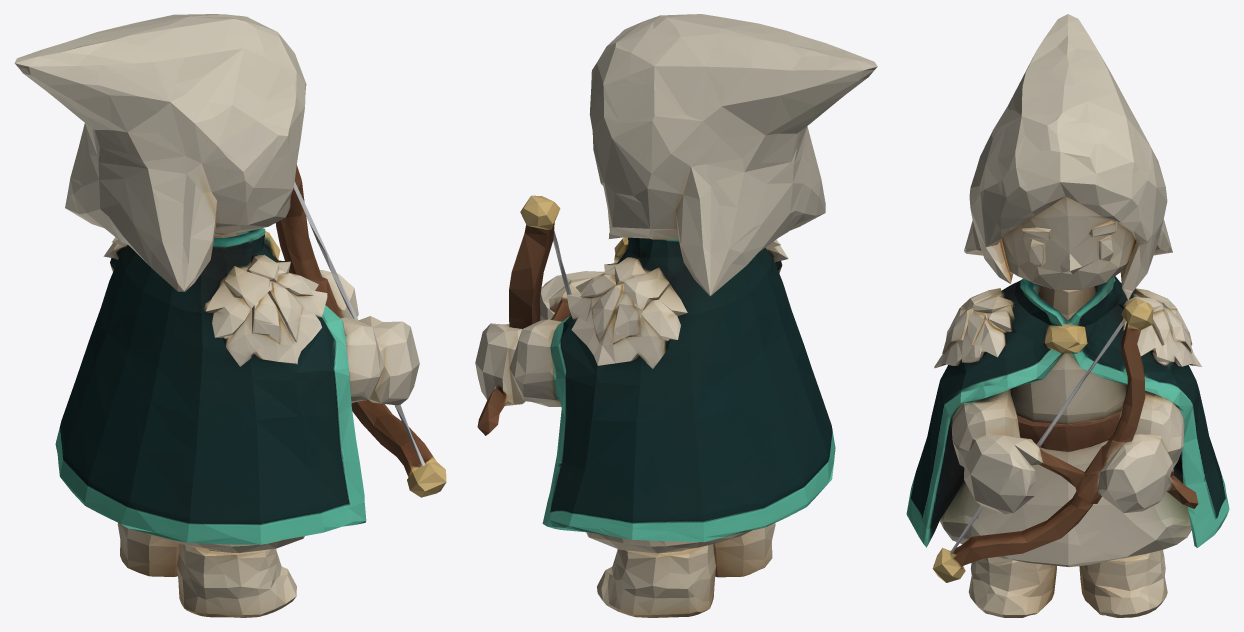
Rendered from forest_ranger.glb.
3 renders of one model, left to right at view 1: azimuth 30°, elevation 25°; view 2: azimuth 150°, elevation 25°; view 3: azimuth 270°, elevation 25°, orthographic. The views are drawn at different scales.
Visible parts, largest first — view 1: tripo_node_ae2a5c06-4088-40e5-b039-255a6e2b240e; view 2: tripo_node_ae2a5c06-4088-40e5-b039-255a6e2b240e; view 3: tripo_node_ae2a5c06-4088-40e5-b039-255a6e2b240e.
Part boxes in pixels (x1,y1,x2,y2): tripo_node_ae2a5c06-4088-40e5-b039-255a6e2b240e: [14, 14, 446, 617]; tripo_node_ae2a5c06-4088-40e5-b039-255a6e2b240e: [475, 14, 877, 617]; tripo_node_ae2a5c06-4088-40e5-b039-255a6e2b240e: [906, 14, 1229, 617].
Size of the model in its own units: 0.5977 by 0.874 by 0.5121.
1 material, 1 textured.
